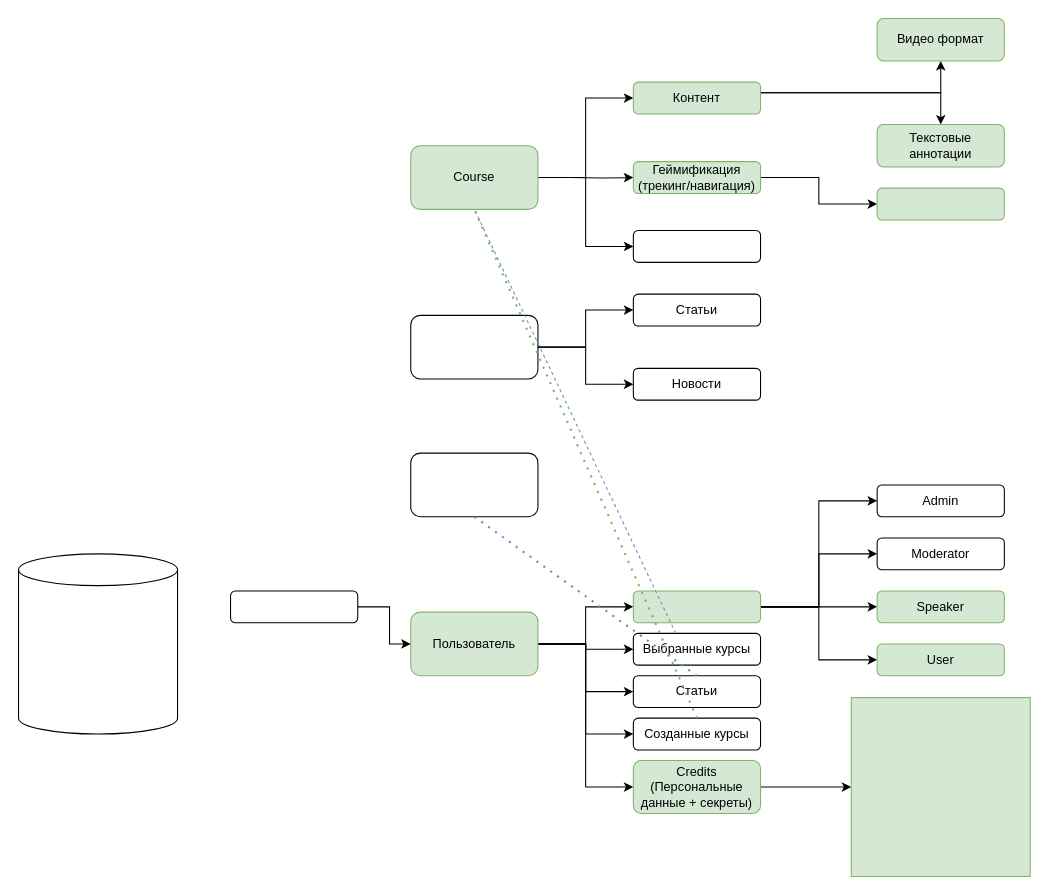
Image size: 1049x896. Some labels were removed from this diagram. Each missing label, with the centre of its shape:
"login+email password hashed service: { vk, tg, } name token (!)" goes at point 940,787.
"Service Creditionals" goes at point 97,643.
"VK Auth" goes at point 293,606.
"Новости + Блог" goes at point 474,346.
"Роль" goes at point 696,606.
"Статья" goes at point 474,484.
"Тесты" goes at point 940,203.
"Чат общий (со спикером)" goes at point 696,245.
